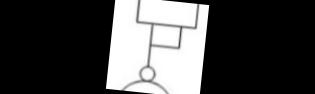nand: (111, 58, 186, 94), (130, 0, 205, 34)
